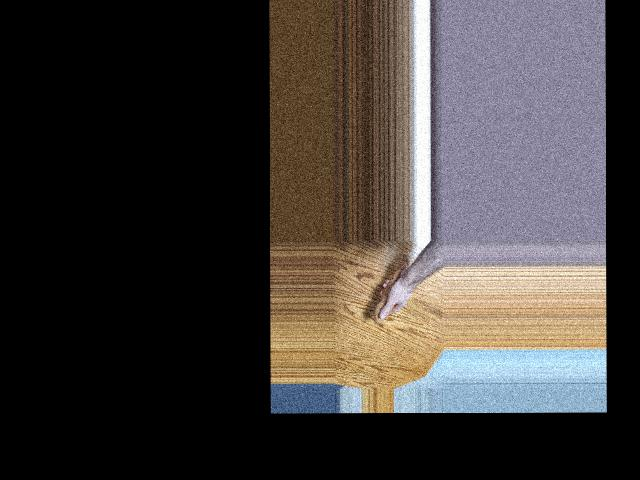sweet_potato: (371, 249, 412, 324)
